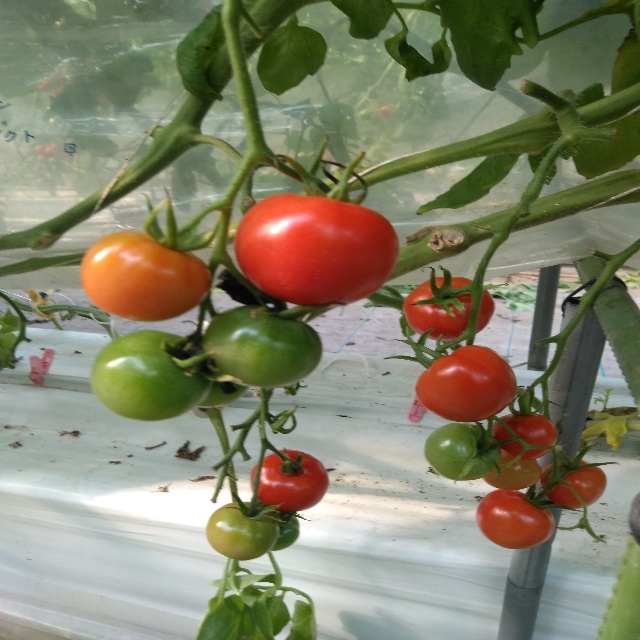l_fully_ripened: (235, 194, 399, 307), (414, 344, 518, 423), (402, 276, 496, 342), (250, 449, 330, 512), (476, 488, 555, 550), (490, 411, 557, 461), (540, 459, 607, 509)
l_green: (89, 329, 215, 422), (203, 306, 322, 386), (424, 423, 503, 481), (205, 502, 279, 561), (197, 362, 248, 407), (269, 510, 300, 551)
l_half_ripened: (79, 231, 211, 322), (482, 453, 542, 490)
